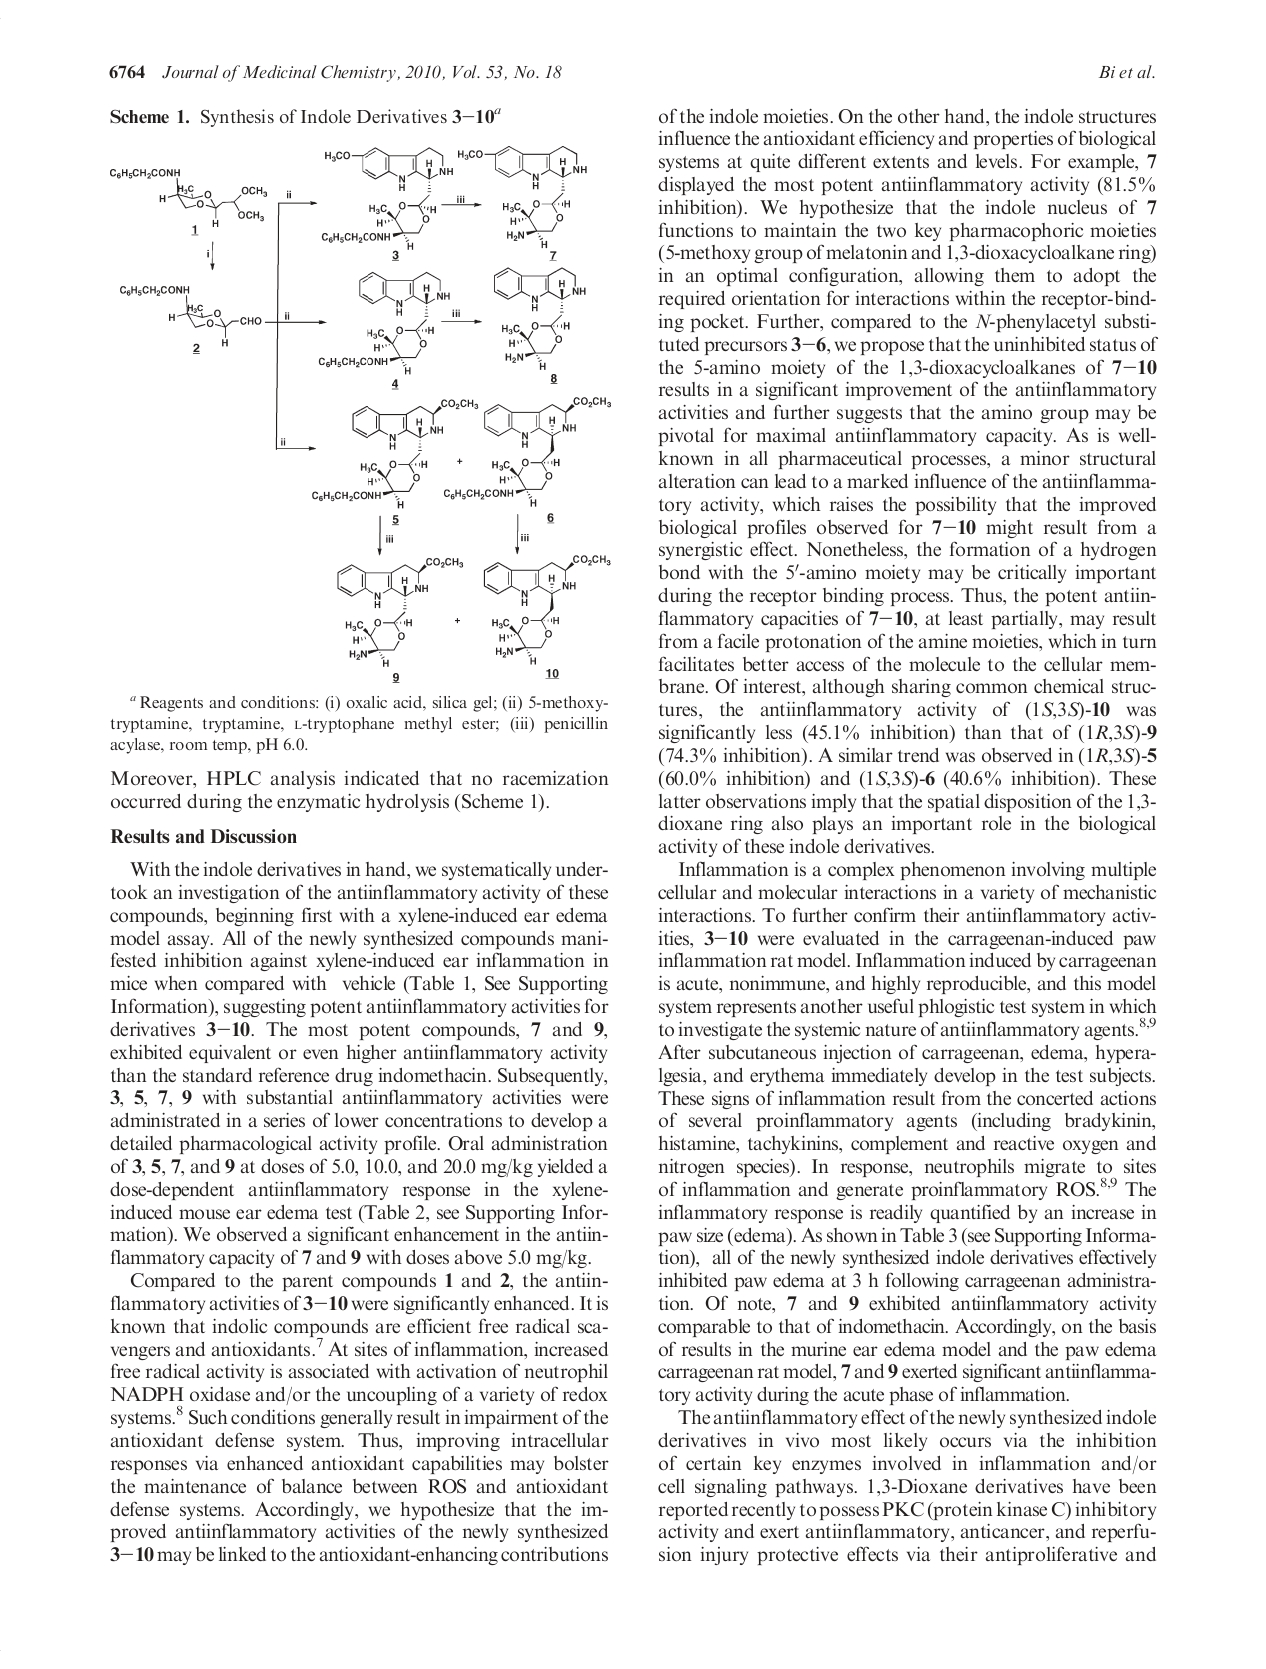exist_molecular: (442, 394, 612, 508), (310, 396, 480, 509), (481, 548, 614, 668), (336, 553, 465, 668), (316, 269, 452, 376), (453, 144, 590, 249), (320, 148, 455, 251), (108, 162, 269, 231), (492, 265, 586, 368)
